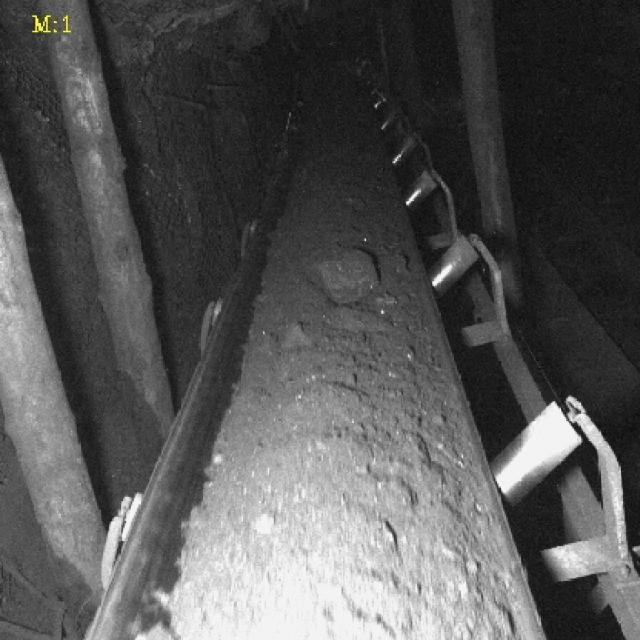large_sized_coal: (310, 240, 378, 305)
